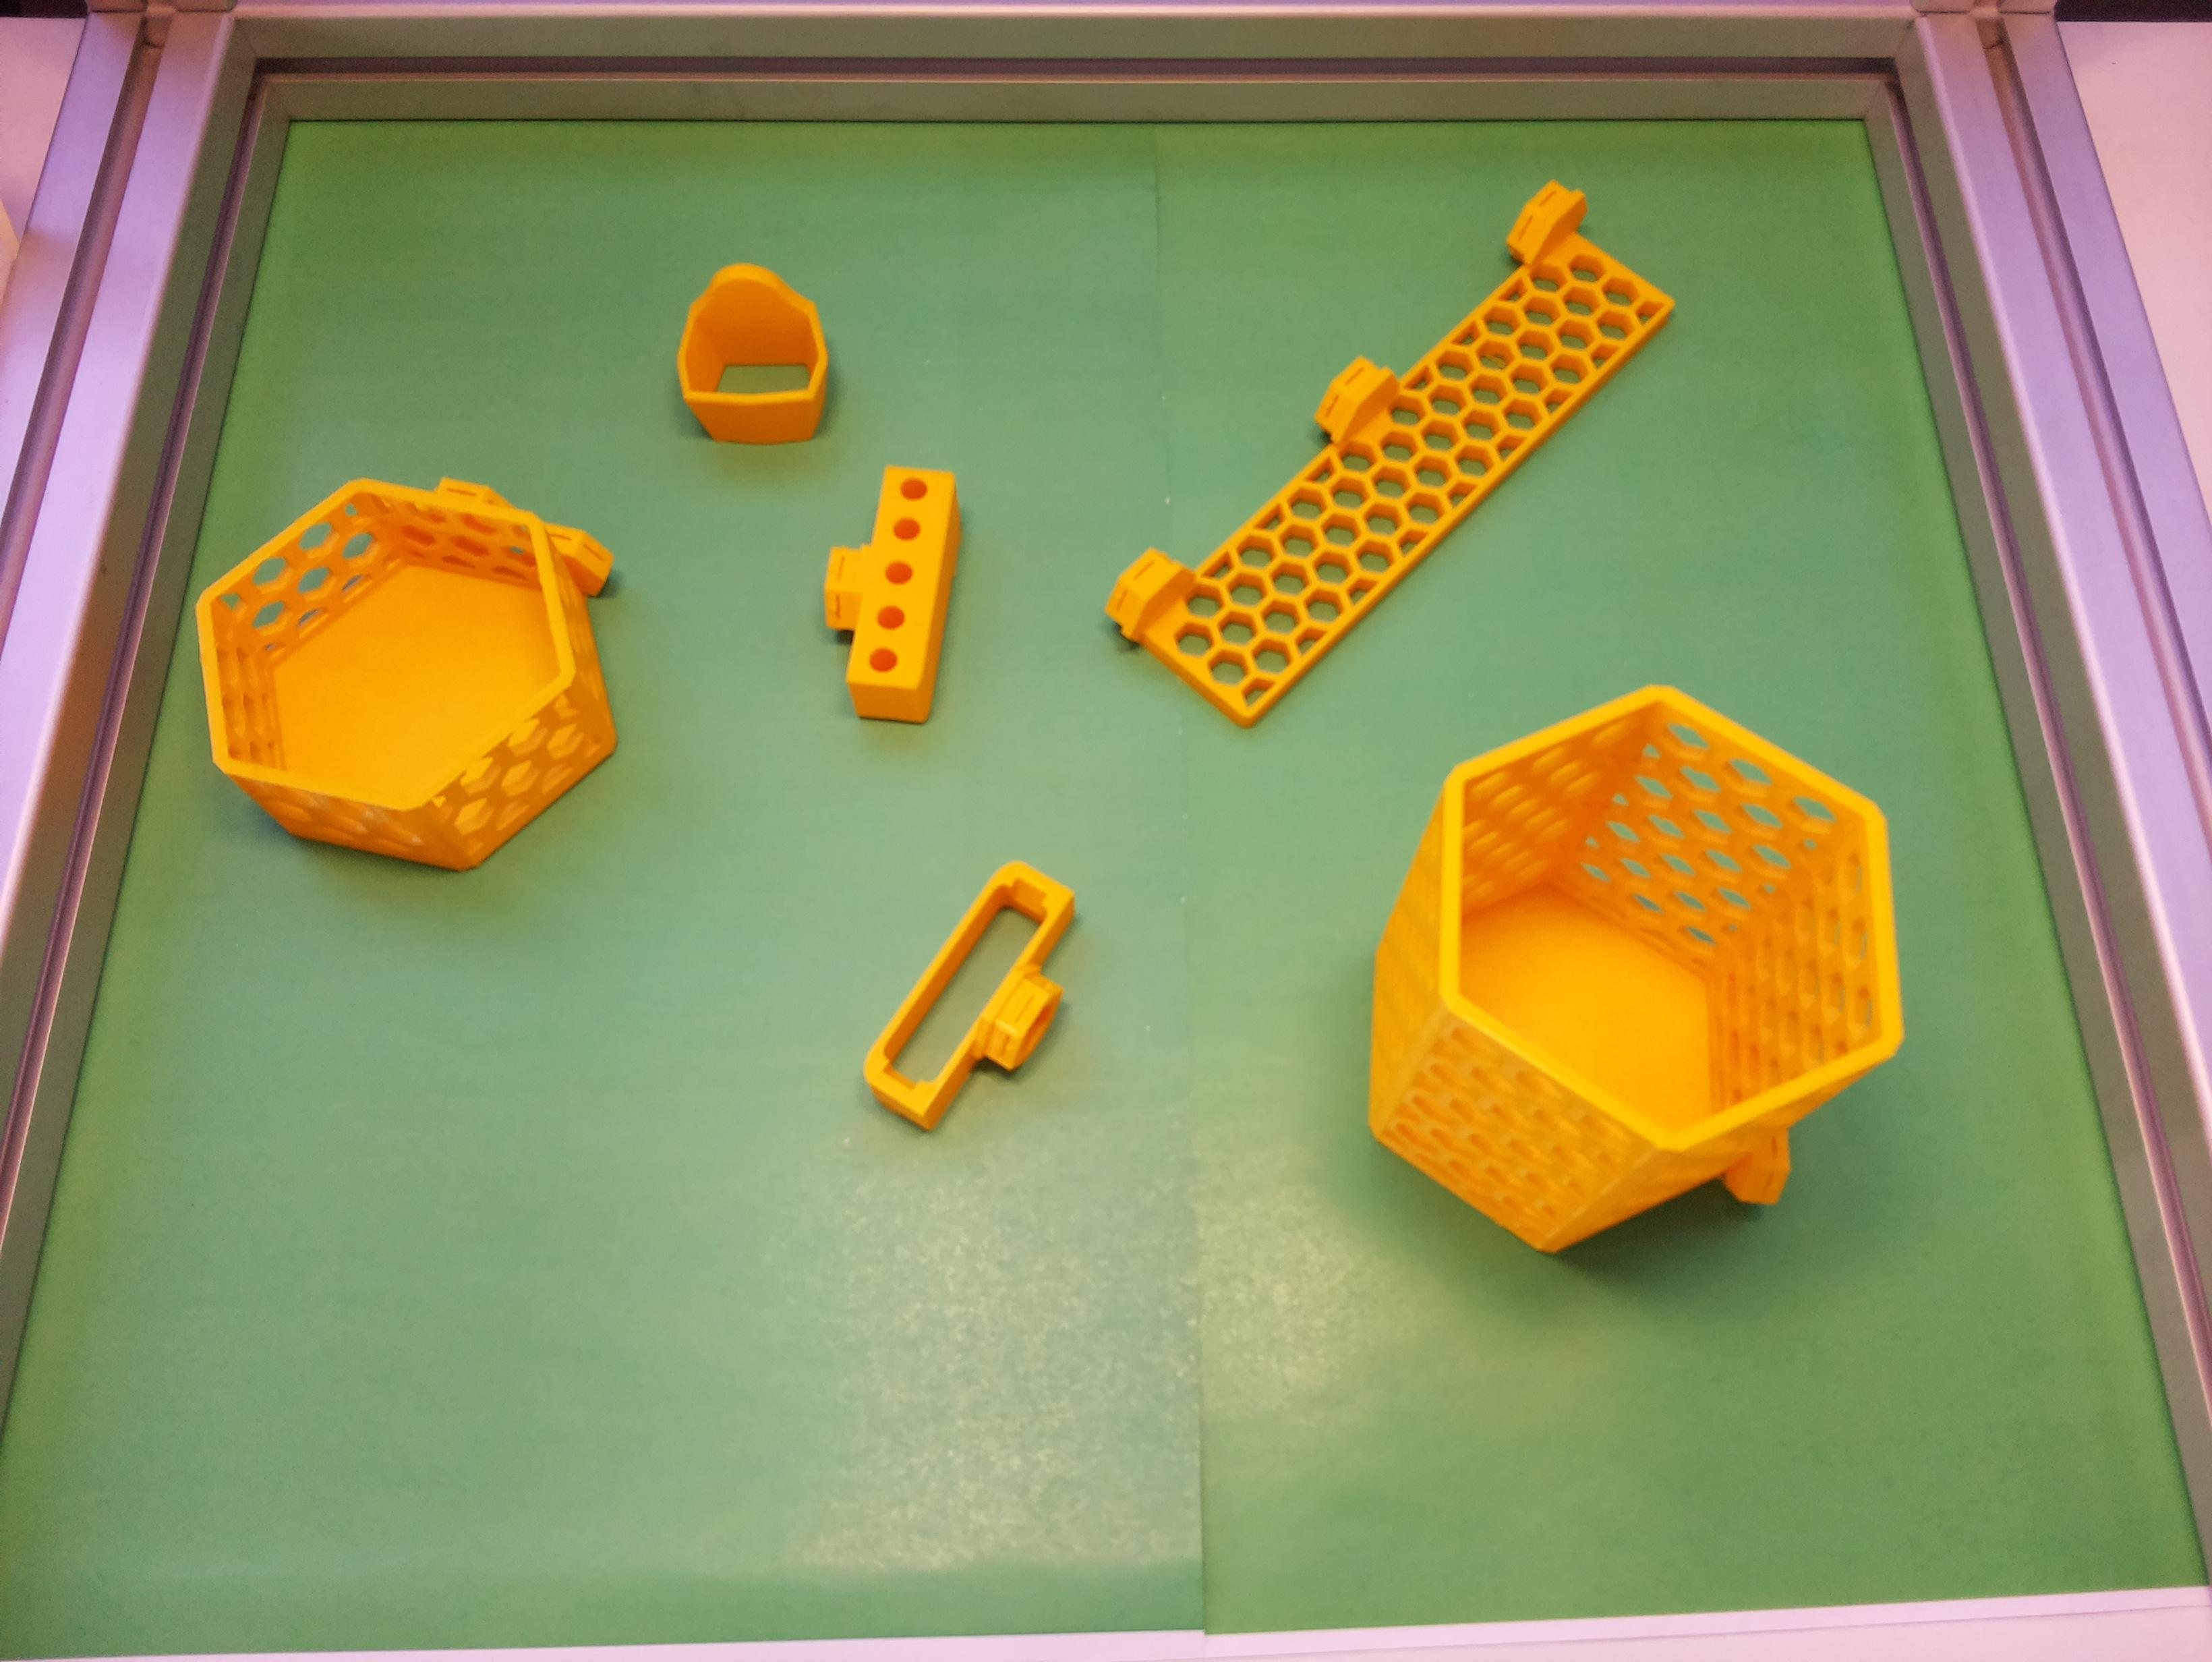bit_holder: (803, 454, 971, 728)
bottle_holder: (196, 475, 618, 873)
cup_holder: (1266, 613, 1996, 1353)
cutter_holder: (848, 845, 1114, 1157)
scissor_holder: (672, 258, 836, 449)
tool_holder: (1093, 159, 1688, 745)
